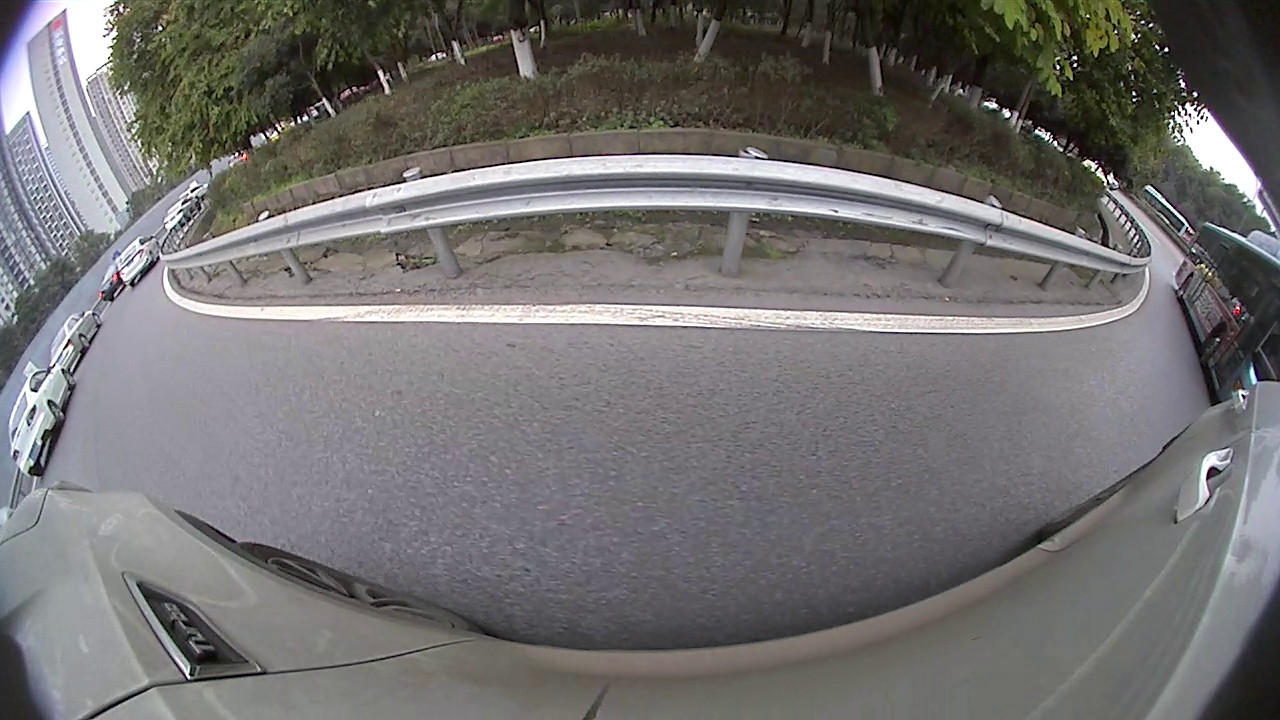bus: (1173, 219, 1279, 411)
car: (1, 362, 77, 482), (47, 304, 104, 372), (114, 228, 162, 290)
front: (1199, 326, 1228, 366), (61, 370, 77, 389)
rear: (1174, 272, 1195, 299), (44, 401, 69, 421), (78, 334, 94, 350)
